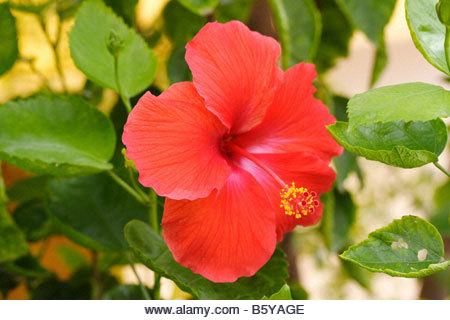Hibiscus: (108, 21, 349, 281)
